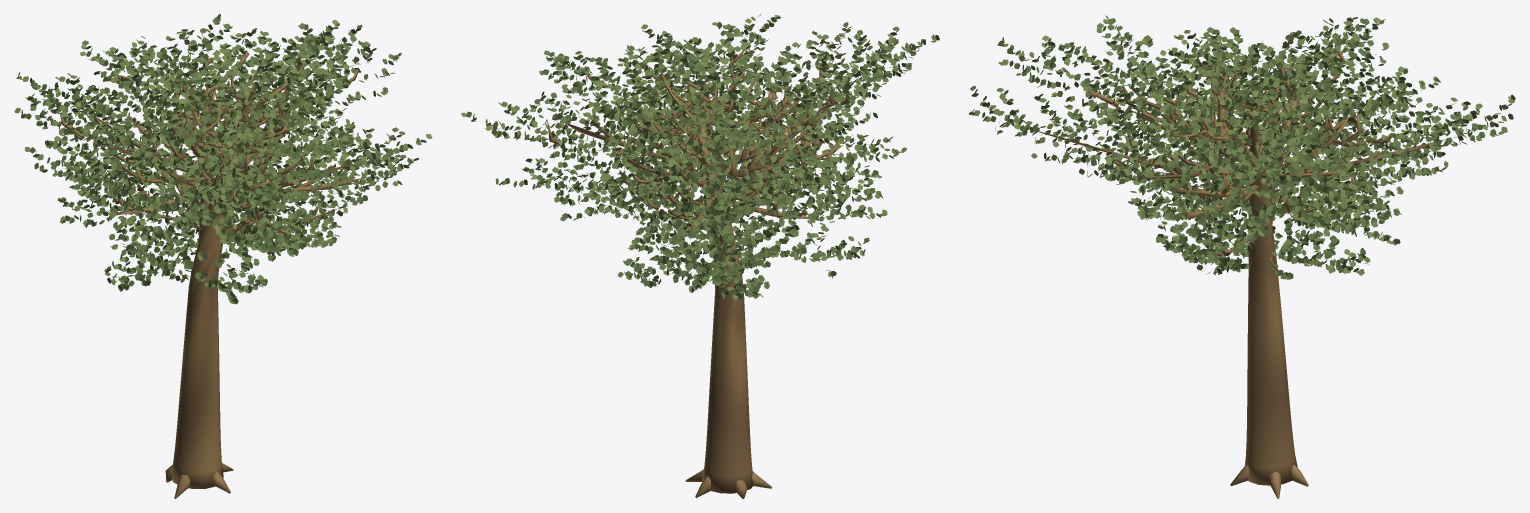
File: green_columnar_lod1.glb
The picture shows the model from 3 angles, left to right: view 1: azimuth 30°, elevation 25°; view 2: azimuth 150°, elevation 25°; view 3: azimuth 270°, elevation 25°; orthographic projection. The views are drawn at different scales.
Visible parts, largest first — view 1: Leaves.004, Trunk.004; view 2: Leaves.004, Trunk.004; view 3: Leaves.004, Trunk.004.
Part boxes in pixels (x1,y1,x2,y2): Leaves.004: (14, 14, 432, 304); Trunk.004: (60, 51, 366, 498); Leaves.004: (461, 14, 939, 299); Trunk.004: (547, 49, 858, 498); Leaves.004: (969, 15, 1515, 280); Trunk.004: (1025, 42, 1445, 498).
Bounding box in the file's own units: 5.34 × 5.89 × 6.58.
